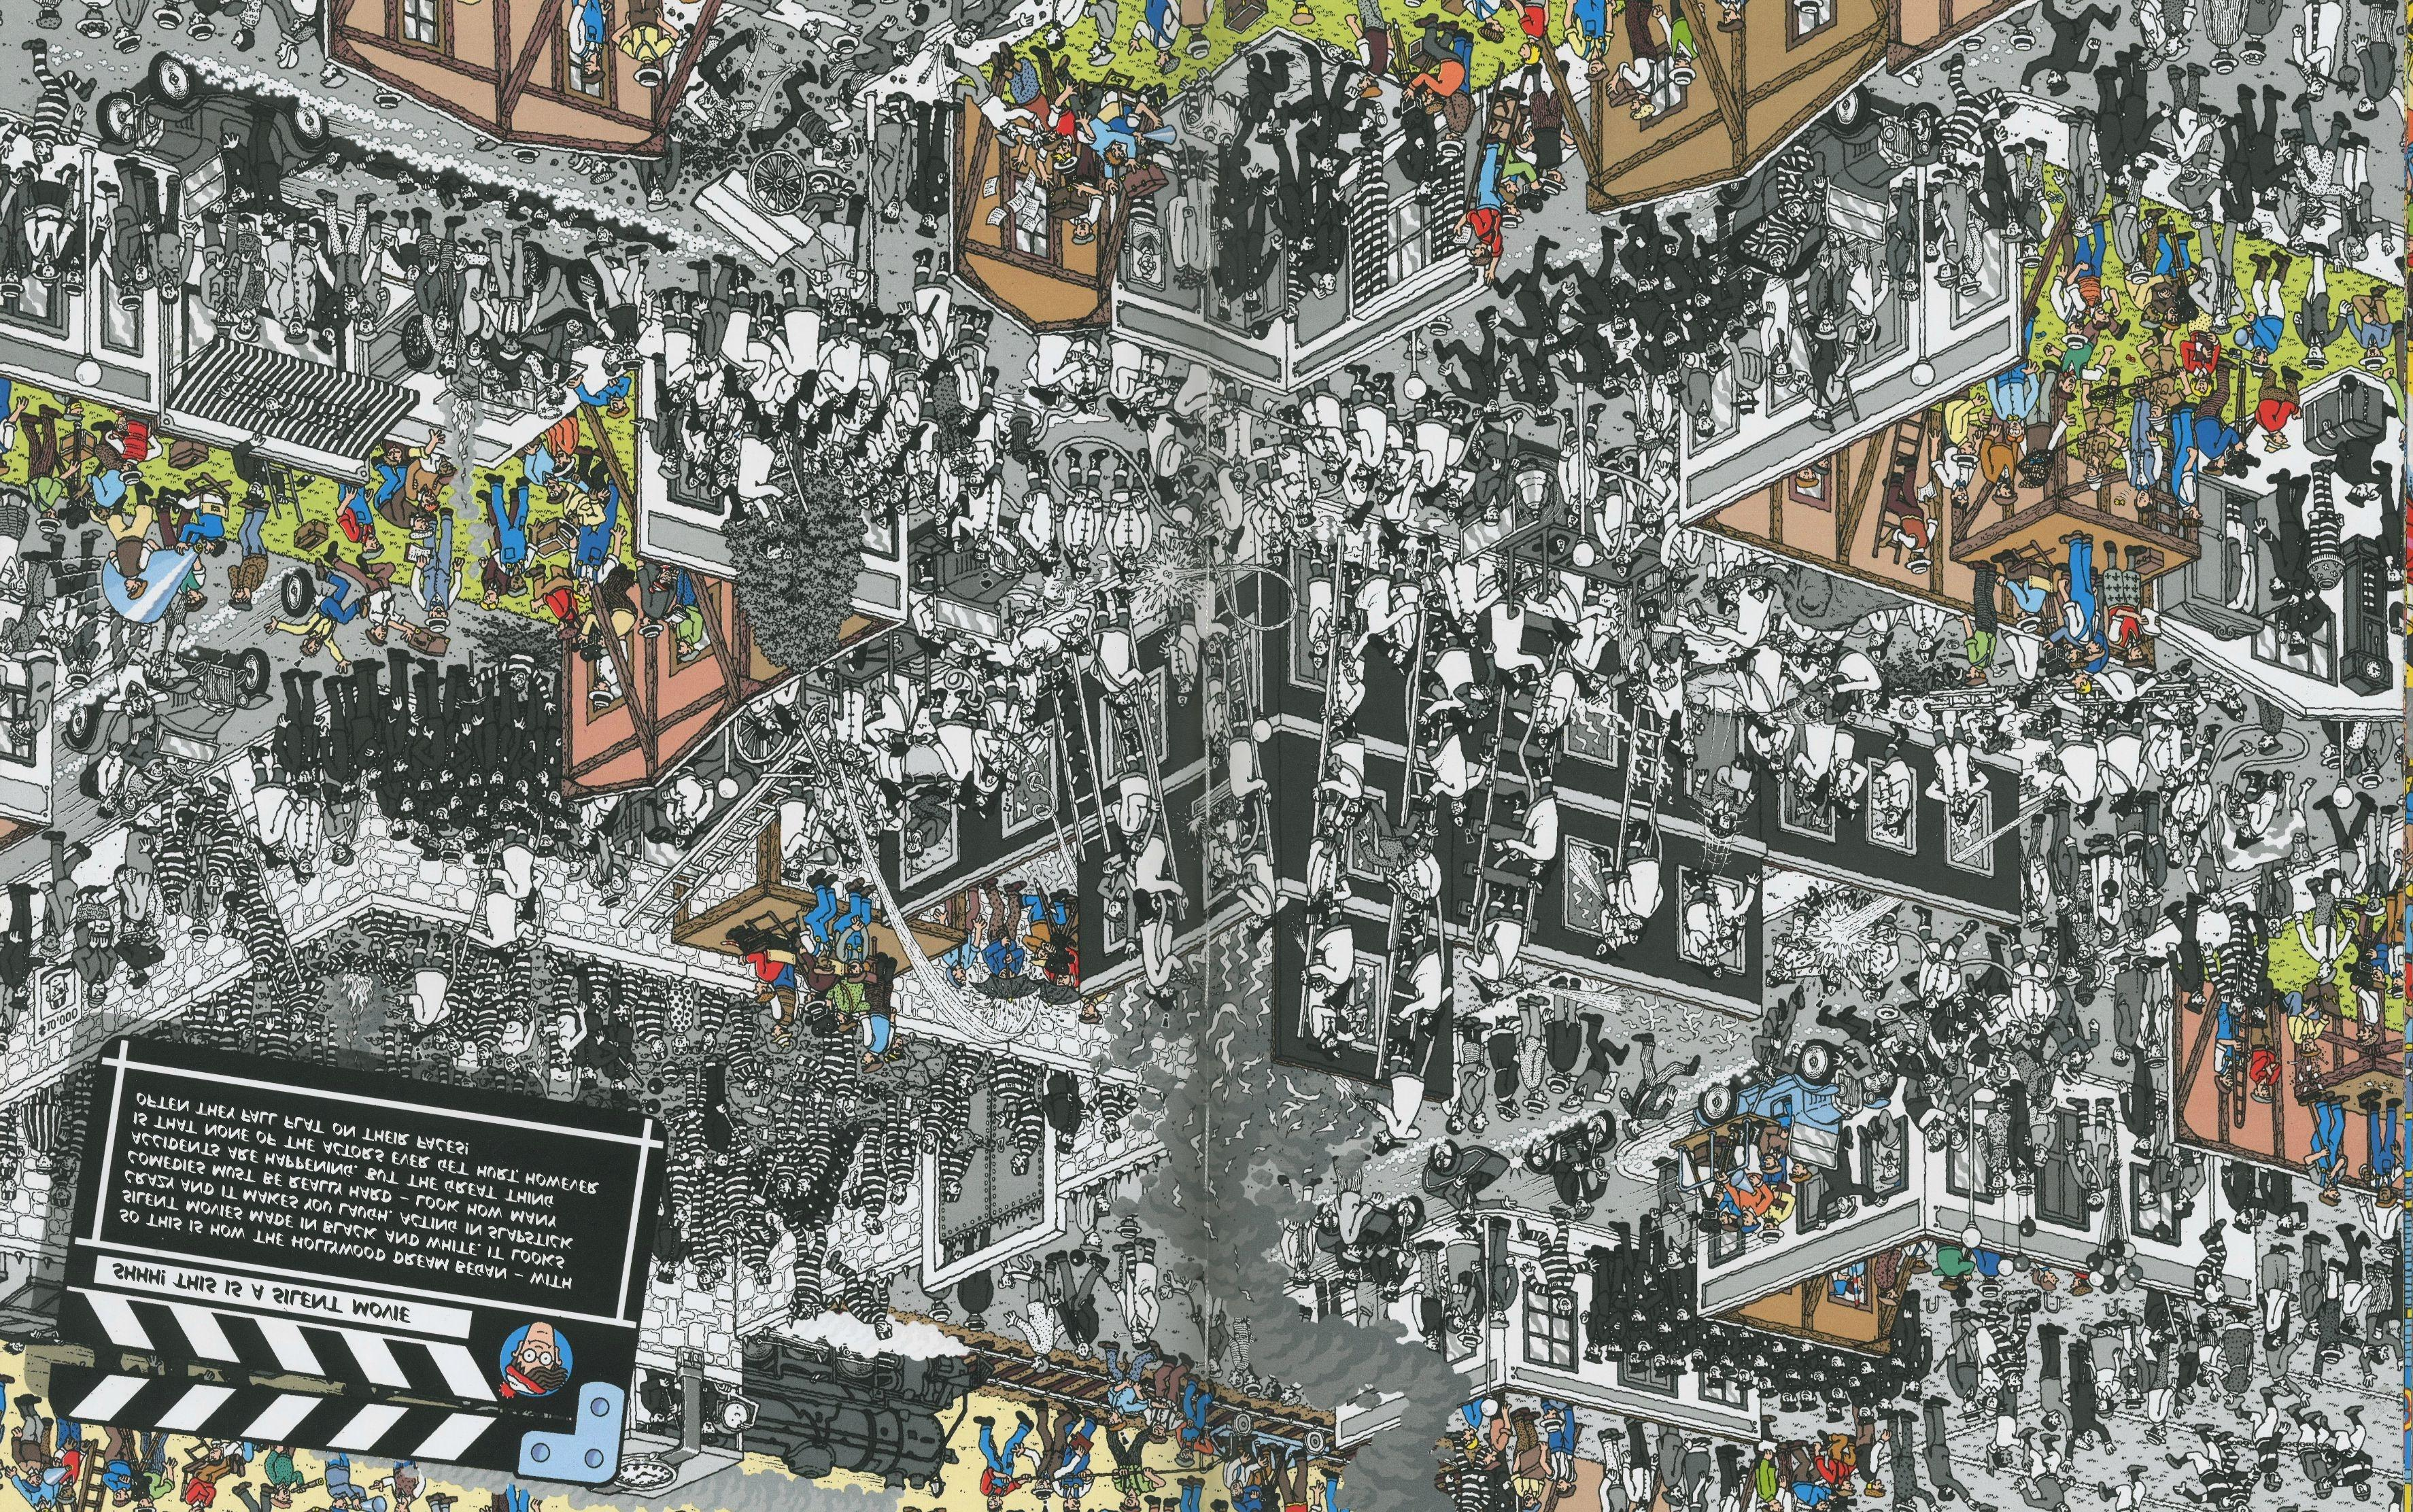waldos: (106, 408, 131, 442)
